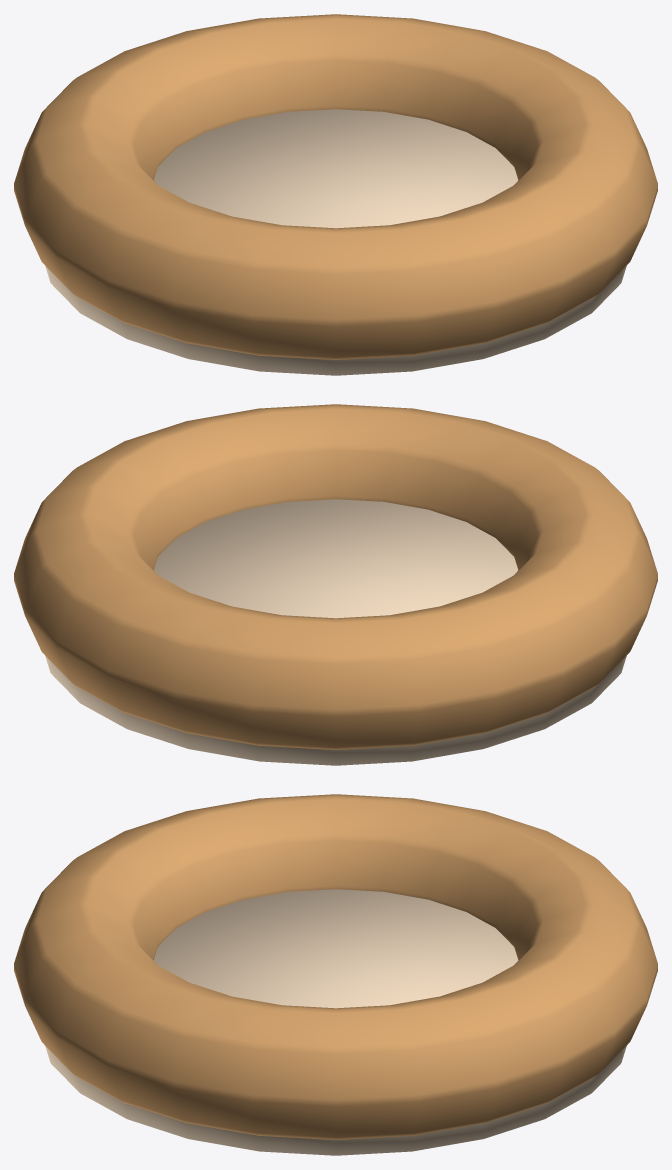
Rendered from pet_bed.glb.
3 views of the same model, one above another, from view 1: azimuth 30°, elevation 25°; view 2: azimuth 150°, elevation 25°; view 3: azimuth 270°, elevation 25° (orthographic).
Visible parts, largest first — view 1: rim, cushion; view 2: rim, cushion; view 3: rim, cushion.
Boxes of the visible parts, box(x1,y1,x2,y2) form: rim: box(14, 14, 657, 359); cushion: box(45, 109, 626, 375); rim: box(14, 404, 657, 749); cushion: box(45, 499, 626, 765); rim: box(14, 794, 657, 1139); cushion: box(45, 889, 626, 1155).
Bounding box in the file's own units: 0.9154 × 0.1977 × 0.9154.
